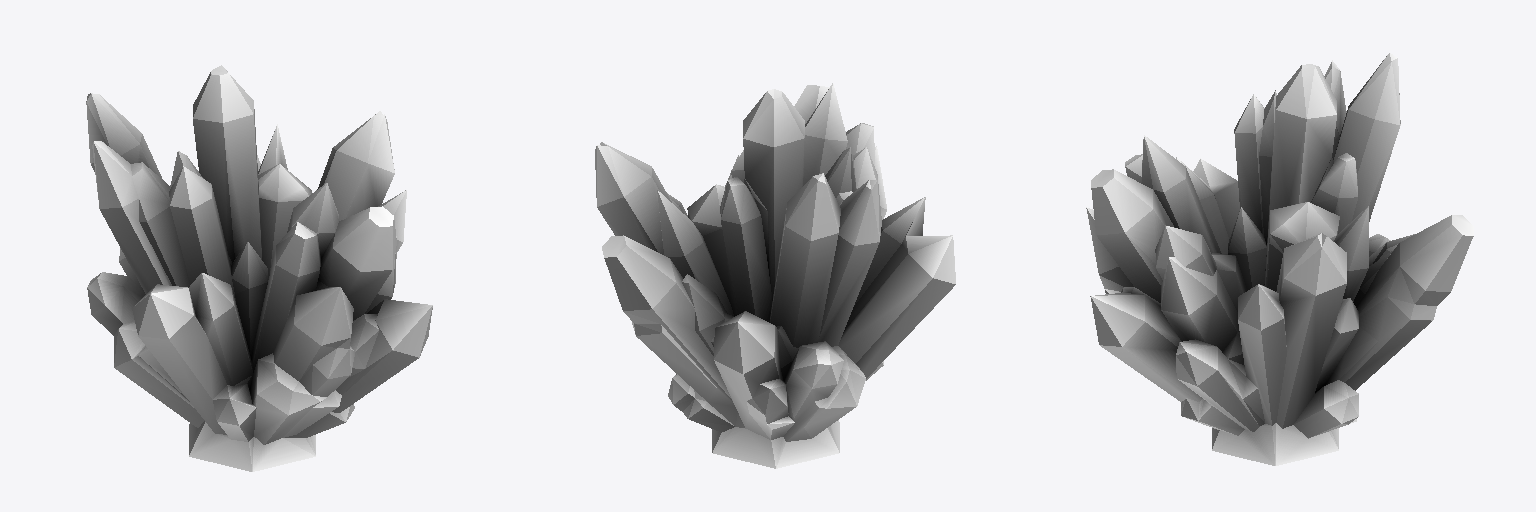
3 renders of one model, left to right at view 1: azimuth 30°, elevation 25°; view 2: azimuth 150°, elevation 25°; view 3: azimuth 270°, elevation 25°, orthographic.
Bounding box in the file's own units: 0.8802 × 1 × 0.9648.
1 materials, 1 textured.